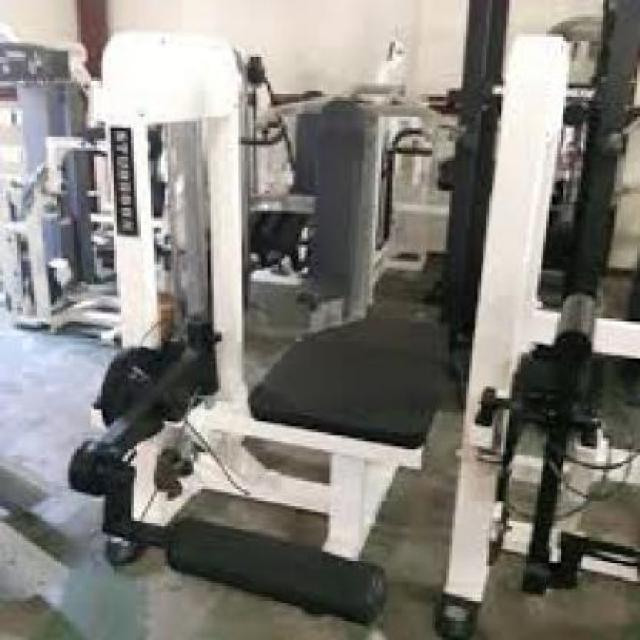reg curl machine: (70, 25, 462, 626)
